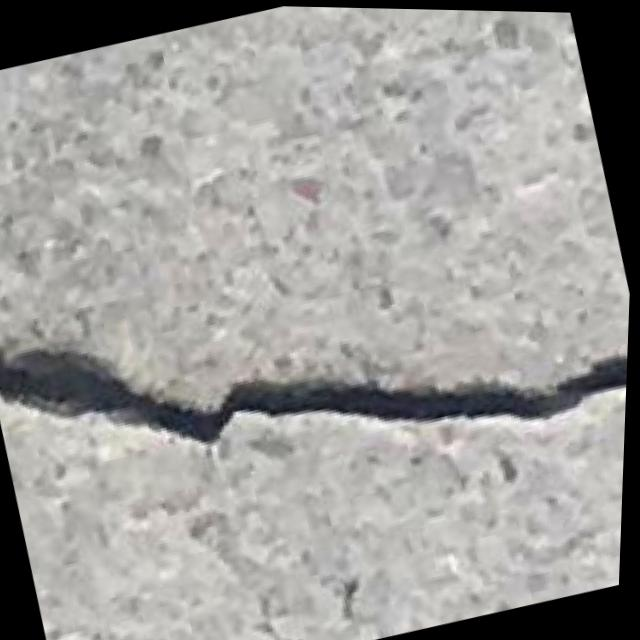Crack: (0, 174, 635, 571)
